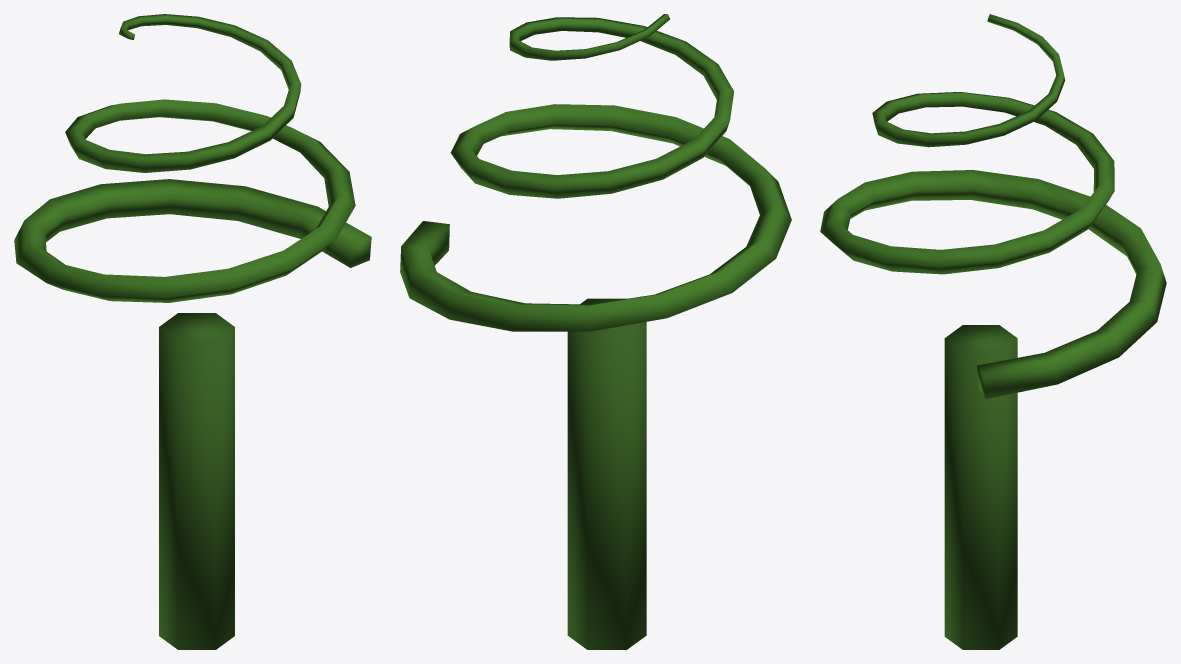
File: vine.glb
3 renders of one model, left to right at view 1: azimuth 30°, elevation 25°; view 2: azimuth 150°, elevation 25°; view 3: azimuth 270°, elevation 25°, orthographic. The views are drawn at different scales.
Parts seen in each view (by area): view 1: vine_v0; view 2: vine_v0; view 3: vine_v0.
Part boxes in pixels (box(x1,y1,x2,y2)): vine_v0: box(14, 14, 371, 649); vine_v0: box(400, 14, 791, 649); vine_v0: box(820, 14, 1166, 649).
Bounding box in the file's own units: 0.2022 × 0.3579 × 0.1896.
